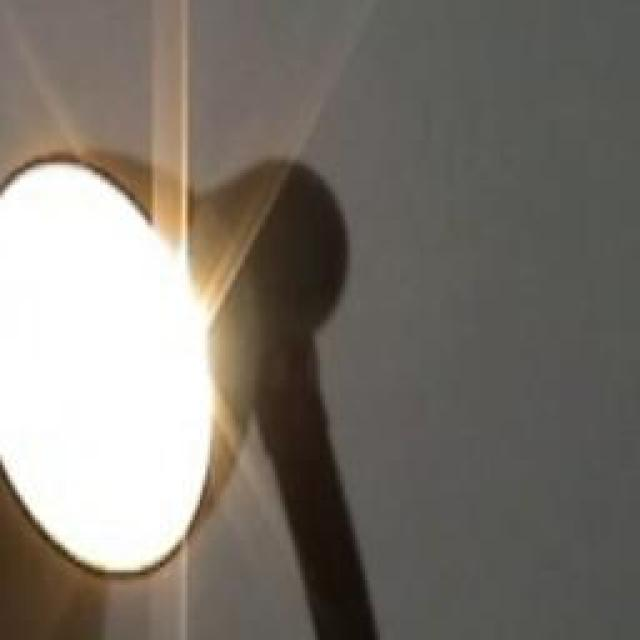other: (4, 139, 215, 594)
